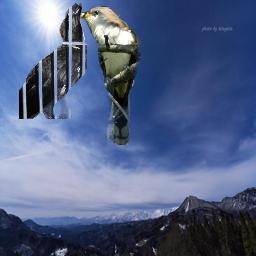Crow: (19, 3, 87, 119)
Cuckoo: (74, 6, 141, 145)
